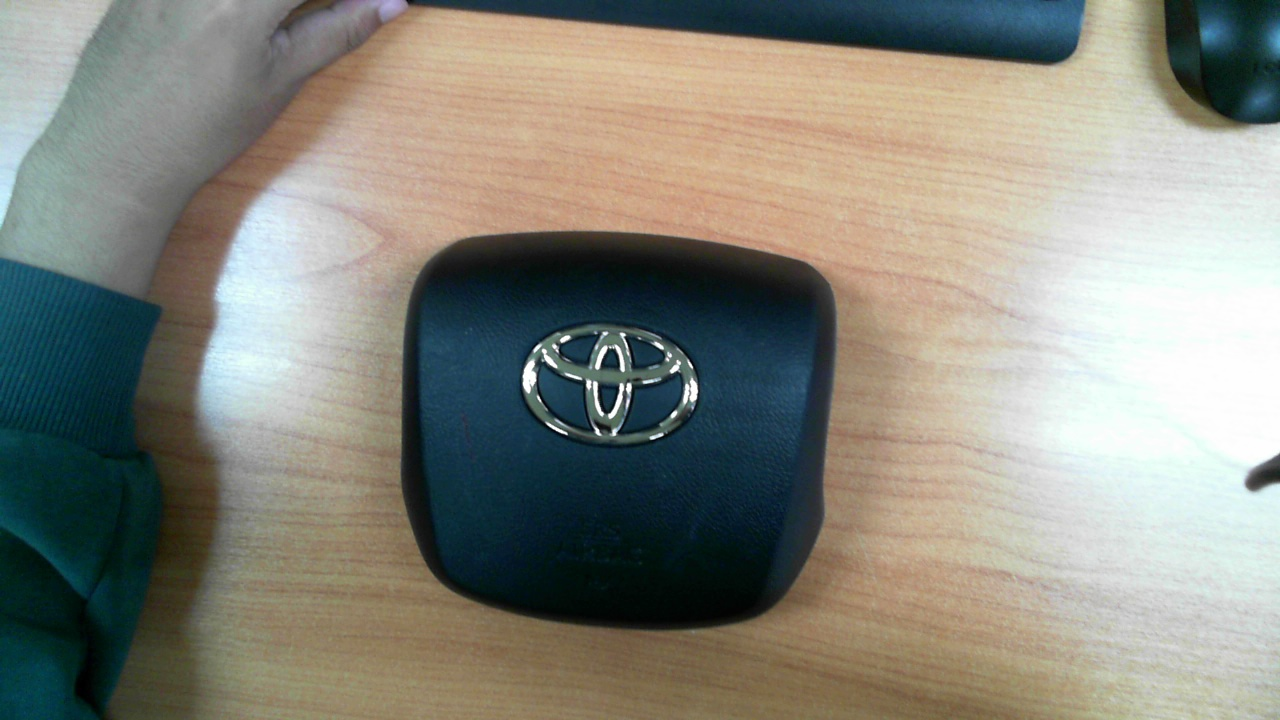Airbag: (399, 229, 838, 633)
Toyota: (522, 324, 698, 445)
